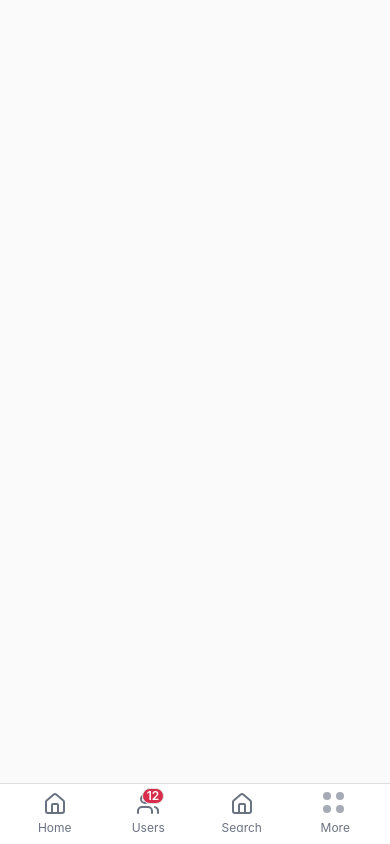
Test: BottomNavigation › Overflow Handling › shows overflow items when more button is clicked
The width and height of the screenshot is (390, 844).
Click the button with aria-label "More options" at (335, 814), box [288,784,382,843]
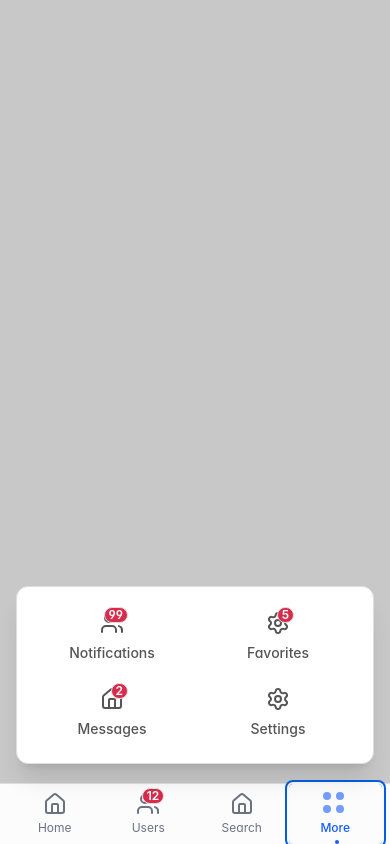
Now the text "Favorites" is shown, box [247,643,309,663]
Now the text "Messages" is shown, box [77,719,147,739]
